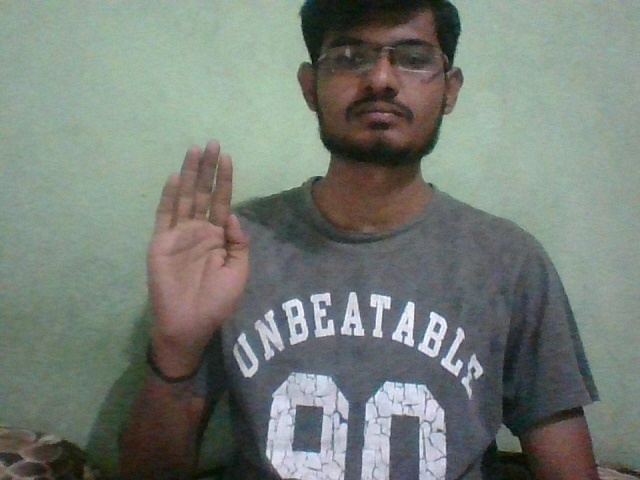goodby: (117, 139, 266, 341)
